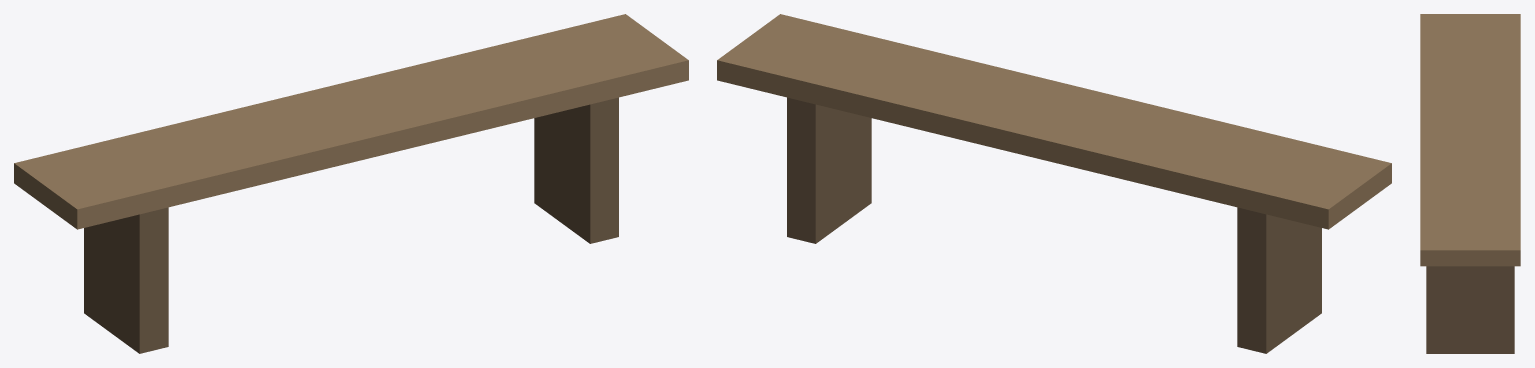
Rendered from bench.glb.
3 renders of one model, left to right at view 1: azimuth 30°, elevation 25°; view 2: azimuth 150°, elevation 25°; view 3: azimuth 270°, elevation 25°, orthographic. The views are drawn at different scales.
Parts seen in each view (by area): view 1: bench; view 2: bench; view 3: bench.
Boxes of the visible parts, left/top/right/bottom form: bench: left=14, top=14, right=688, bottom=353; bench: left=717, top=14, right=1391, bottom=353; bench: left=1420, top=14, right=1520, bottom=353.
Bounding box in the file's own units: 1.9 × 0.485 × 0.34.
